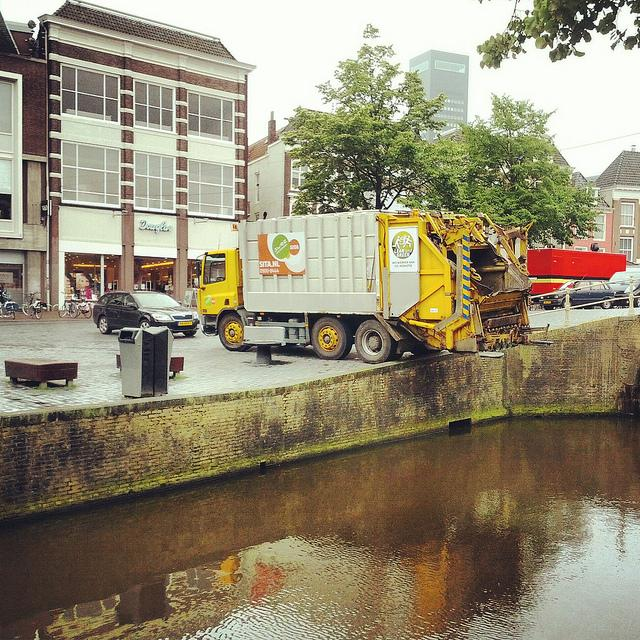Vehicle: (196, 208, 554, 362), (93, 289, 200, 337), (526, 244, 626, 295), (538, 280, 614, 312), (3, 300, 22, 311)
